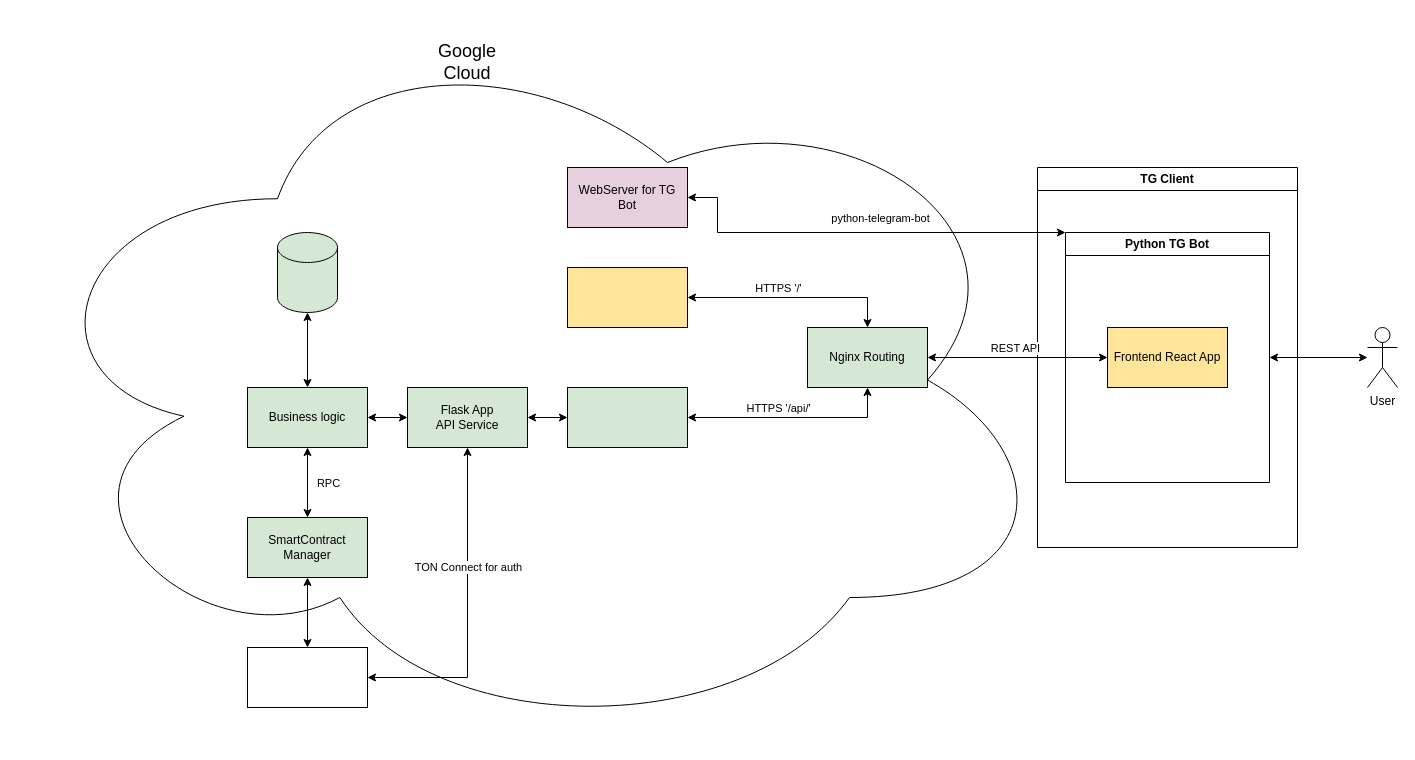
Image size: 1415x760. Some labels were removed from this diagram. The shapes that lost their labels are listed below. From the top down, each one's box as (x1, y1, x2, y2) in pixels, then its label:
(276, 232, 338, 312): SQLite DB
(566, 266, 688, 328): React Static Server
(566, 386, 688, 448): WSGI Gunicorn
(246, 646, 368, 708): TON Blockchain
